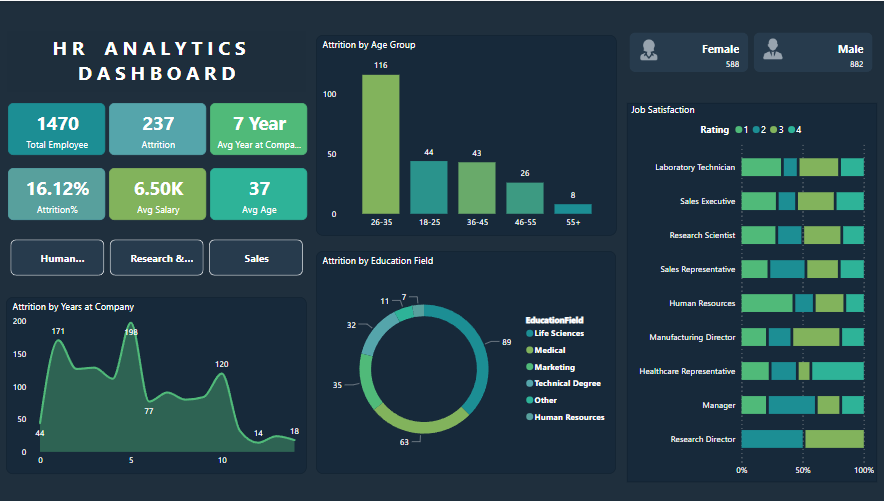

The dashboard page shown, as its layout file describes it:
{"tool":"powerbi","page":{"name":"HR ANALYTICS DAHBOARD","canvas":[1280,720],"ordinal":0},"visuals":[{"type":"image","box":[1096.6,48.3,39.8,39.8],"z":0},{"type":"image","box":[916.9,50.7,39.8,39.8],"z":1000},{"type":"card","fields":{"Values":["HR_Analytics.Employee_Count"]},"box":[14.5,147.1,139.9,74.8],"z":2000},{"type":"card","fields":{"Values":["HR_Analytics.Employee_Attrition"]},"box":[159.2,147.1,139.9,74.8],"z":3000},{"type":"card","fields":{"Values":["HR_Analytics.AvgYear_with_text"]},"box":[305.1,147.1,139.9,74.8],"z":4000},{"type":"card","fields":{"Values":["HR_Analytics.Attrition%"]},"box":[14.5,240,139.9,74.8],"z":5000},{"type":"card","fields":{"Values":["HR_Analytics.Avg_Salary"]},"box":[159.2,240,139.9,74.8],"z":6000},{"type":"card","fields":{"Values":["HR_Analytics.Avg_age"]},"box":[305.1,240,139.9,74.8],"z":7000},{"type":"areaChart","title":"Attrition by Years at Company","fields":{"Category":["HR_Analytics.YearsAtCompany"],"Y":["CountNonNull(HR_Analytics.Attrition)"]},"box":[11.2,426.2,432.5,255],"z":8000},{"type":"donutChart","title":"Attrition by Education Field","fields":{"Y":["HR_Analytics.Employee_Attrition"],"Category":["HR_Analytics.EducationField"]},"box":[457.9,360,432,321.1],"z":9000},{"type":"clusteredColumnChart","title":"Attrition by Age Group","fields":{"Category":["HR_Analytics.AgeGroup"],"Y":["HR_Analytics.Employee_Attrition"]},"box":[457.9,49,433.4,289.4],"z":10000},{"type":"hundredPercentStackedBarChart","title":"Job Satisfaction","fields":{"Y":["HR_Analytics.Employee_Attrition"],"Series":["HR_Analytics.JobSatisfaction"],"Category":["HR_Analytics.JobRole"]},"box":[905.8,146.9,360,545.8],"z":11000},{"type":"advancedSlicerVisual","fields":{"Values":["HR_Analytics.Gender"]},"box":[904.3,40.3,360,67.7],"z":12000},{"type":"advancedSlicerVisual","fields":{"Values":["HR_Analytics.Department"]},"box":[13.3,338.9,431.8,62.7],"z":13000},{"type":"textbox","box":[13,43.2,430.6,87.8],"z":14000}]}

Visuals, with their boxes in screenshot pixels (x1, y1, x2, y2), scaled from the page's 1280x720 canvas onto the 884x501 screenshot:
image: {"x1": 757, "y1": 34, "x2": 785, "y2": 61}
image: {"x1": 633, "y1": 35, "x2": 661, "y2": 63}
card - HR_Analytics.Employee_Count: {"x1": 10, "y1": 102, "x2": 107, "y2": 154}
card - HR_Analytics.Employee_Attrition: {"x1": 110, "y1": 102, "x2": 207, "y2": 154}
card - HR_Analytics.AvgYear_with_text: {"x1": 211, "y1": 102, "x2": 307, "y2": 154}
card - HR_Analytics.Attrition%: {"x1": 10, "y1": 167, "x2": 107, "y2": 219}
card - HR_Analytics.Avg_Salary: {"x1": 110, "y1": 167, "x2": 207, "y2": 219}
card - HR_Analytics.Avg_age: {"x1": 211, "y1": 167, "x2": 307, "y2": 219}
"Attrition by Years at Company" areaChart: {"x1": 8, "y1": 297, "x2": 306, "y2": 474}
"Attrition by Education Field" donutChart: {"x1": 316, "y1": 250, "x2": 615, "y2": 474}
"Attrition by Age Group" clusteredColumnChart: {"x1": 316, "y1": 34, "x2": 616, "y2": 235}
"Job Satisfaction" hundredPercentStackedBarChart: {"x1": 626, "y1": 102, "x2": 874, "y2": 482}
advancedSlicerVisual - HR_Analytics.Gender: {"x1": 625, "y1": 28, "x2": 873, "y2": 75}
advancedSlicerVisual - HR_Analytics.Department: {"x1": 9, "y1": 236, "x2": 307, "y2": 279}
textbox: {"x1": 9, "y1": 30, "x2": 306, "y2": 91}
